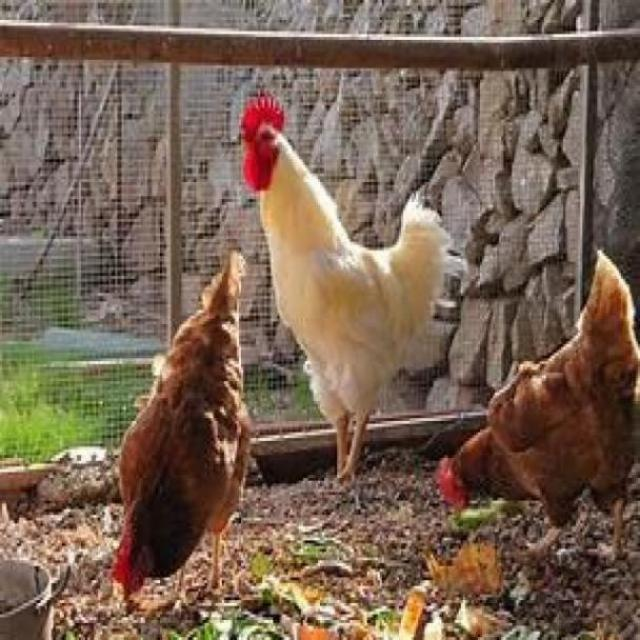Chicken: (239, 91, 469, 484), (434, 247, 640, 561), (109, 249, 256, 620)
